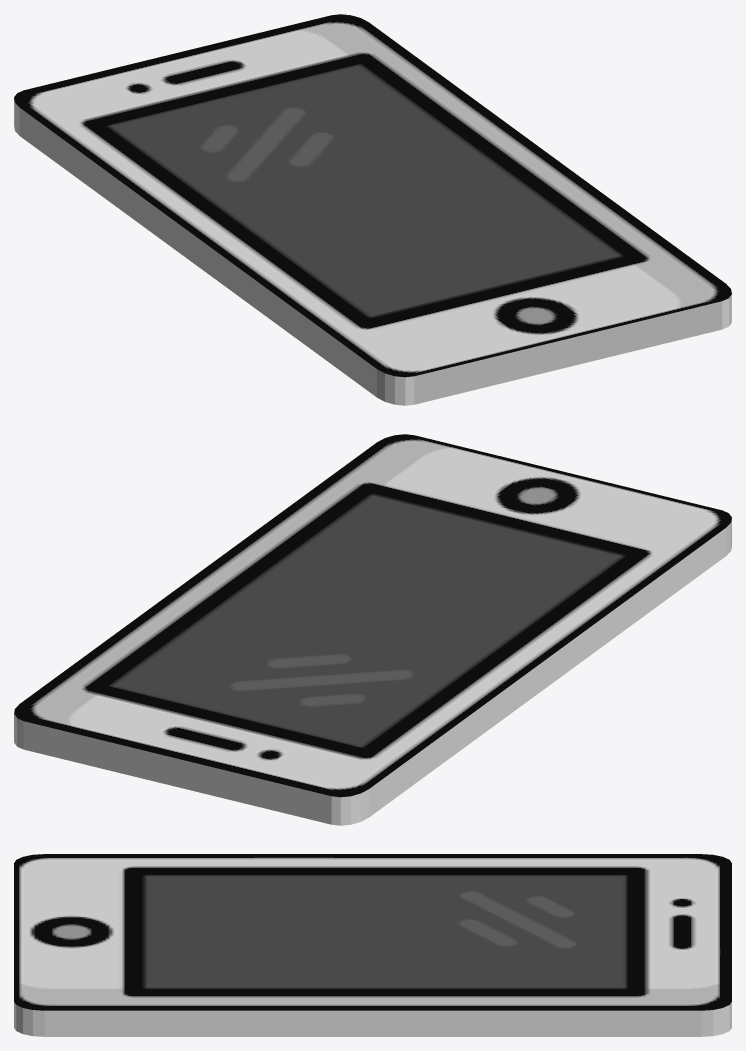
File: phone.obj
The picture shows the model from 3 angles, top to bottom: view 1: azimuth 30°, elevation 25°; view 2: azimuth 150°, elevation 25°; view 3: azimuth 270°, elevation 25°; orthographic projection. The views are drawn at different scales.
Visible parts, largest first — view 1: Plane; view 2: Plane; view 3: Plane.
Boxes of the visible parts, <box> form: Plane: <box>14,14,731,405</box>; Plane: <box>14,434,731,825</box>; Plane: <box>14,854,731,1036</box>.
Size of the model in its own units: 0.4487 by 0.035 by 0.8691.
